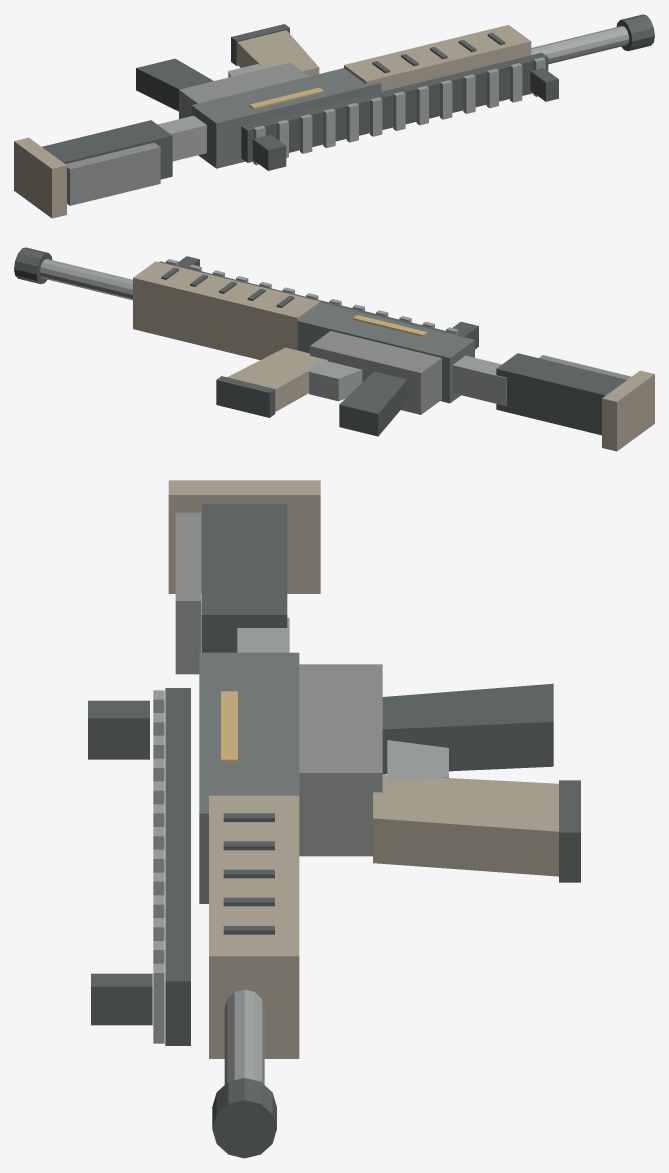
The picture shows the model from 3 angles, top to bottom: view 1: azimuth 30°, elevation 25°; view 2: azimuth 150°, elevation 25°; view 3: azimuth 270°, elevation 25°; orthographic projection. The views are drawn at different scales.
Parts seen in each view (by area): view 1: 04_Top_rail, 01_Receiver_upper, 03_Front_shroud, 10_Stock_top, 09_Stock_endpad, 08_Rear_stock, 02_Receiver_lower, 12_Detachable_prop_magazine, 11_Angled_grip, 05_Front_tube, 07_Back_connector, 15_Rear_sight (+15 smaller); view 2: 03_Front_shroud, 08_Rear_stock, 01_Receiver_upper, 02_Receiver_lower, 09_Stock_endpad, 11_Angled_grip, 12_Detachable_prop_magazine, 07_Back_connector, 05_Front_tube, 13_Magazine_bottom, 14_Trigger_guard_silhouette, 06_Front_cap (+4 smaller); view 3: 03_Front_shroud, 12_Detachable_prop_magazine, 02_Receiver_lower, 01_Receiver_upper, 11_Angled_grip, 08_Rear_stock, 04_Top_rail, 09_Stock_endpad, 10_Stock_top, 06_Front_cap, 15_Rear_sight, 05_Front_tube (+6 smaller).
Part boxes in pixels (<box>): 04_Top_rail: <box>241,52,548,162</box>; 01_Receiver_upper: <box>191,68,381,168</box>; 03_Front_shroud: <box>344,25,531,91</box>; 10_Stock_top: <box>65,142,160,205</box>; 09_Stock_endpad: <box>14,137,66,218</box>; 08_Rear_stock: <box>42,120,172,179</box>; 02_Receiver_lower: <box>179,62,308,118</box>; 12_Detachable_prop_magazine: <box>237,30,319,76</box>; 11_Angled_grip: <box>136,58,213,111</box>; 05_Front_tube: <box>531,26,629,64</box>; 07_Back_connector: <box>157,115,206,161</box>; 15_Rear_sight: <box>252,134,286,170</box>; 03_Front_shroud: <box>133,261,320,359</box>; 08_Rear_stock: <box>496,353,626,435</box>; 01_Receiver_upper: <box>297,302,474,403</box>; 02_Receiver_lower: <box>310,331,441,414</box>; 09_Stock_endpad: <box>602,370,654,451</box>; 11_Angled_grip: <box>339,371,407,436</box>; 12_Detachable_prop_magazine: <box>227,347,327,411</box>; 07_Back_connector: <box>452,355,506,405</box>; 05_Front_tube: <box>39,259,132,300</box>; 13_Magazine_bottom: <box>216,376,275,417</box>; 14_Trigger_guard_silhouette: <box>309,359,362,401</box>; 06_Front_cap: <box>14,247,52,284</box>; 03_Front_shroud: <box>209,795,299,1058</box>; 12_Detachable_prop_magazine: <box>373,774,558,876</box>; 02_Receiver_lower: <box>299,664,382,856</box>; 01_Receiver_upper: <box>199,652,299,903</box>; 11_Angled_grip: <box>382,683,553,774</box>; 08_Rear_stock: <box>201,503,287,652</box>; 04_Top_rail: <box>165,688,190,1045</box>; 09_Stock_endpad: <box>168,480,320,593</box>; 10_Stock_top: <box>175,512,201,674</box>; 06_Front_cap: <box>212,1078,276,1158</box>; 15_Rear_sight: <box>88,700,149,759</box>; 05_Front_tube: <box>224,989,264,1084</box>.
Bounding box in the file's own units: 149 × 12.8 × 51.8.
